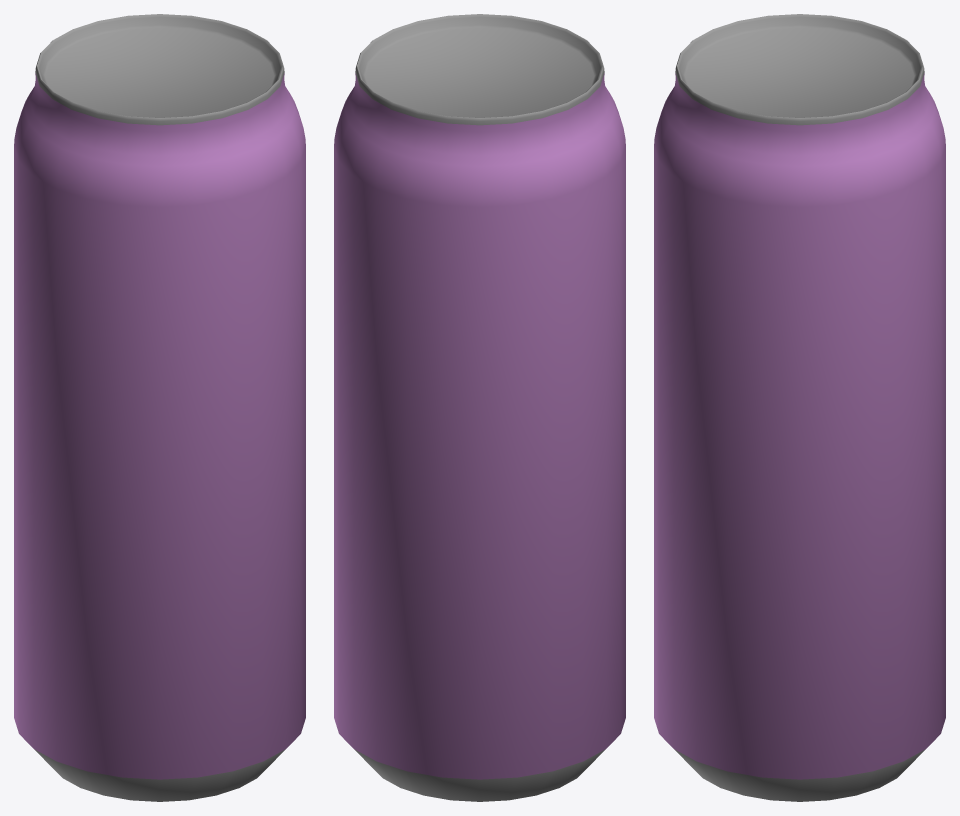
Rendered from MonsterCan.fbx.
The picture shows the model from 3 angles, left to right: view 1: azimuth 30°, elevation 25°; view 2: azimuth 150°, elevation 25°; view 3: azimuth 270°, elevation 25°; orthographic projection.
Parts seen in each view (by area): view 1: MonsterCan; view 2: MonsterCan; view 3: MonsterCan.
Part boxes in pixels (x1,y1,x2,y2): MonsterCan: (14,14,305,801); MonsterCan: (334,14,625,801); MonsterCan: (654,14,945,801).
Bounding box in the file's own units: 6.5 × 16.92 × 6.5.
